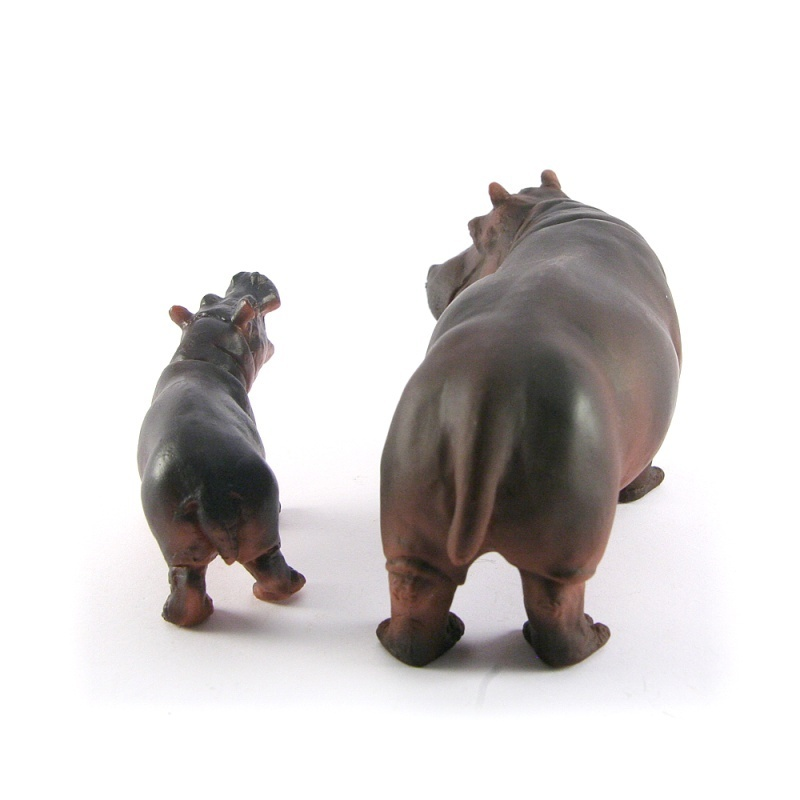hipopotamo: (360, 164, 698, 678), (124, 252, 324, 642)
